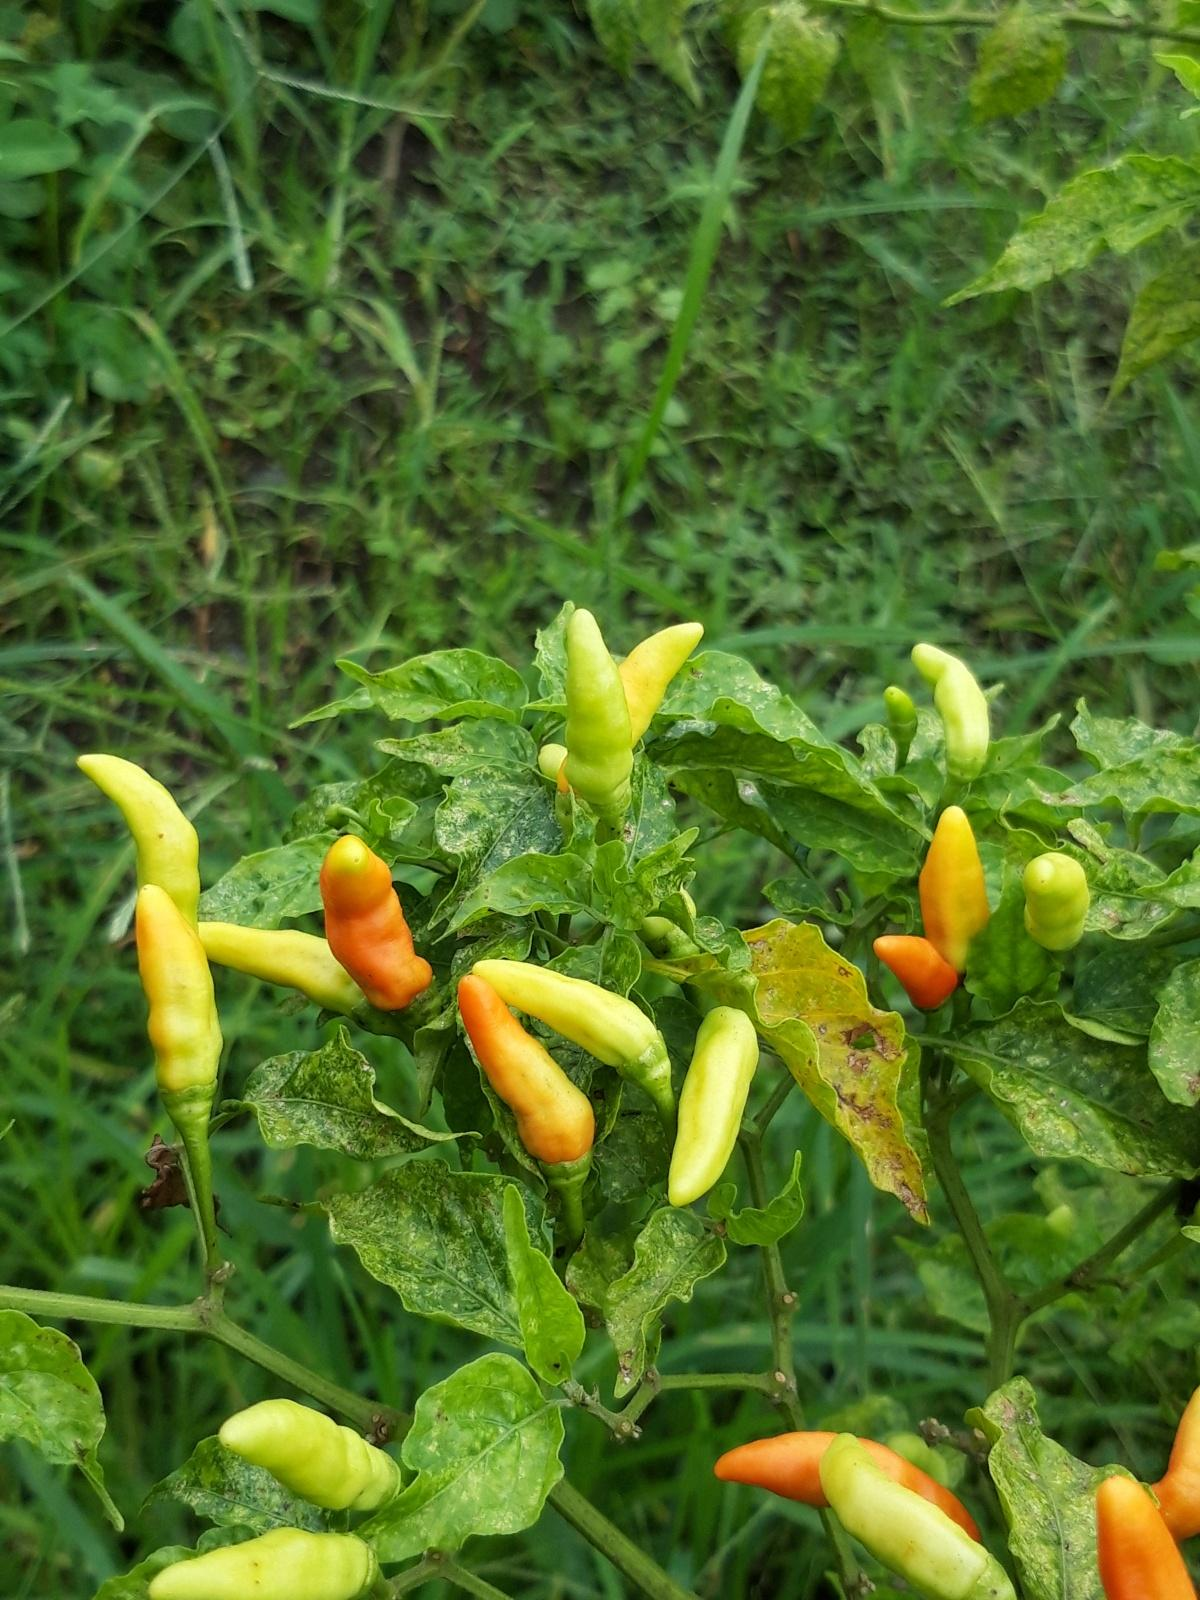cabai_normal: (713, 1430, 981, 1548), (819, 1431, 993, 1597), (458, 976, 596, 1163), (77, 751, 199, 941), (218, 1398, 398, 1507), (321, 834, 435, 1002), (471, 961, 658, 1061), (666, 1008, 758, 1208), (135, 883, 222, 1086), (195, 921, 372, 1013), (147, 1528, 372, 1600), (563, 609, 634, 803), (1095, 1473, 1200, 1600), (918, 805, 991, 973), (611, 622, 705, 747), (910, 643, 987, 771), (872, 934, 958, 1010), (1022, 852, 1088, 951), (884, 687, 916, 731)
